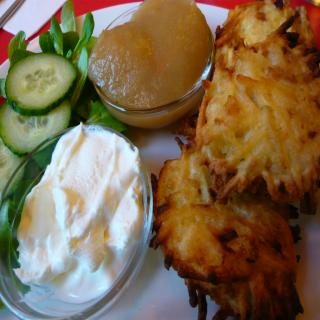Cucumber: (0, 40, 80, 120), (0, 98, 71, 158), (0, 137, 26, 202)
